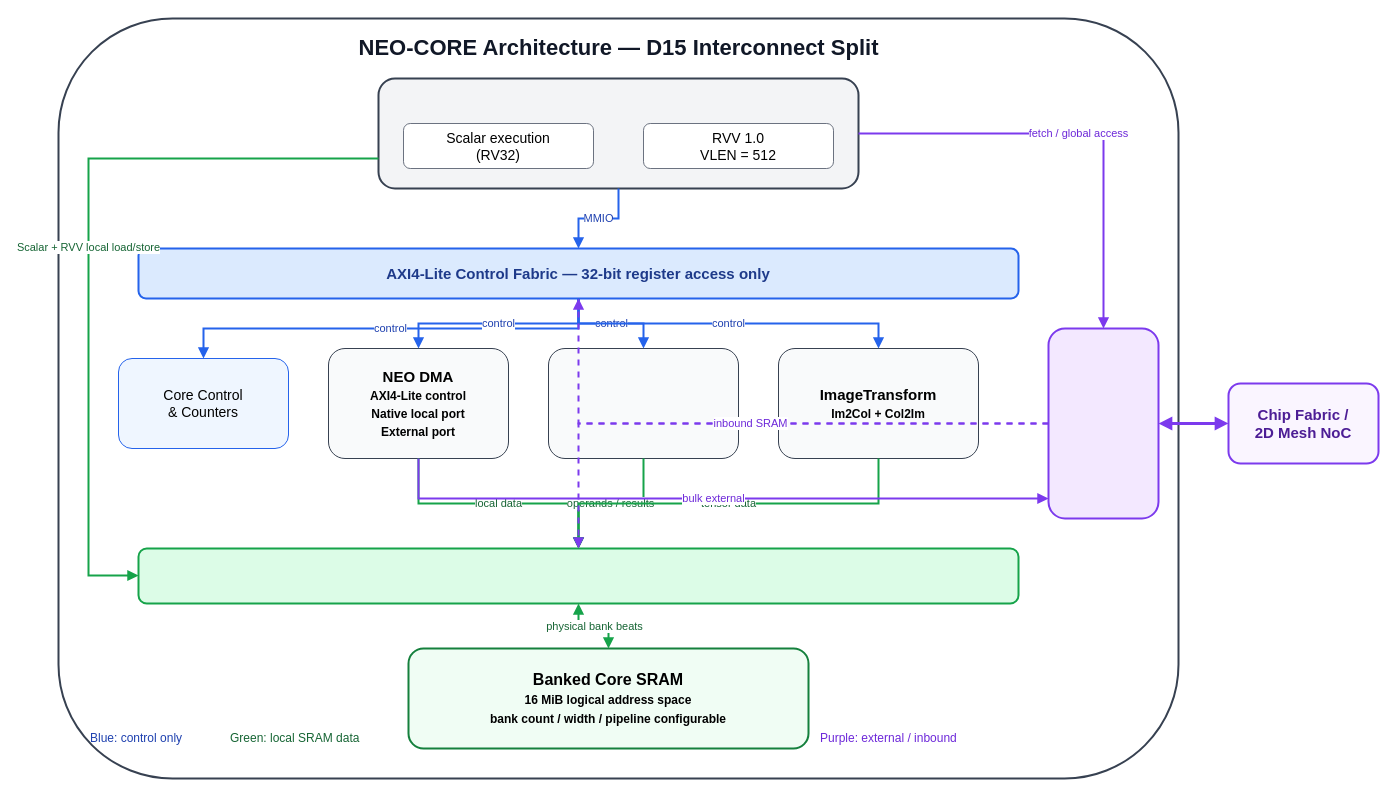
This 1397x796 diagram has some shape labels left out. The shapes that lost their labels are listed below. From the top down, each one's box as (x1, y1, x2, y2) in pixels, then its label:
(377, 77, 859, 189): RISC-V VP++ RV32GCV Hart
(548, 348, 738, 458): SAURIA Matrix Engine 64×64 bring-up 128×128 target
(1047, 327, 1159, 519): Bidirectional AXI4 / NoC Bridge Outbound: VP++ + DMA Inbound: MMIO + SRAM
(137, 547, 1019, 604): NEO Local SRAM Fabric — native ready/valid, banked arbitration (DATA)
